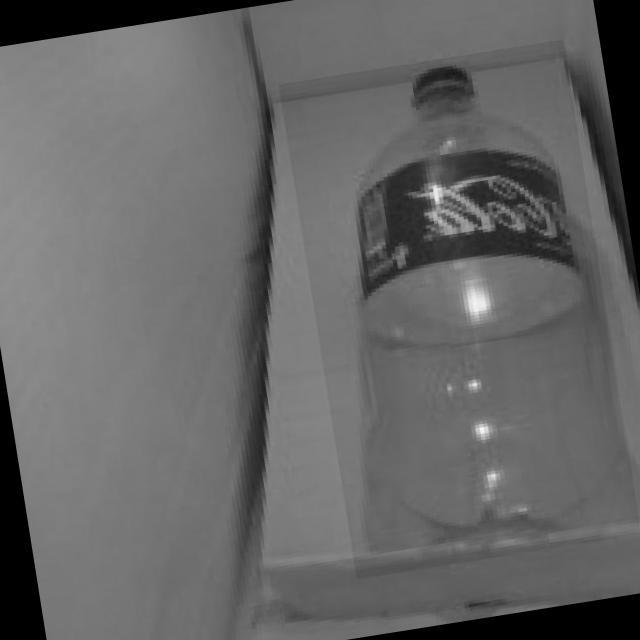good: (278, 39, 640, 579)
